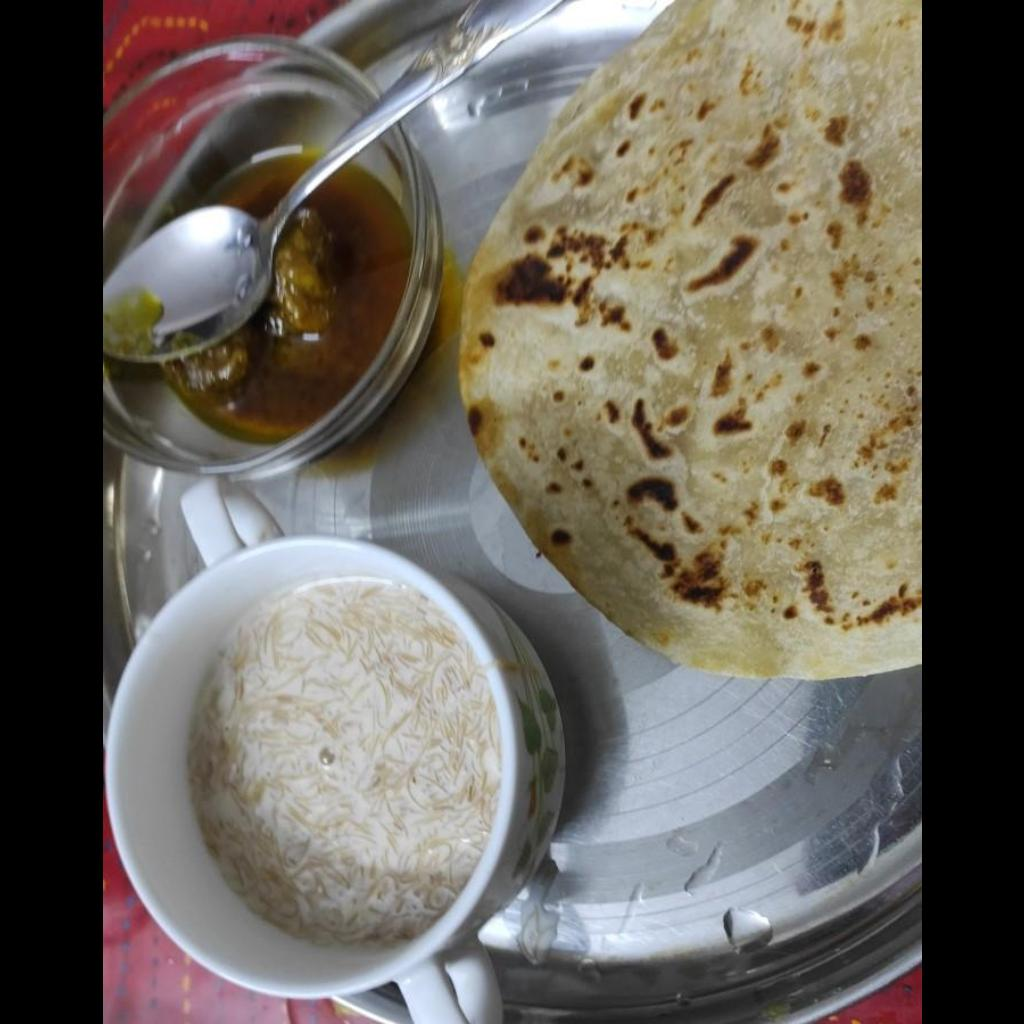payesh: (185, 581, 499, 954)
ruti: (455, 0, 920, 684)
